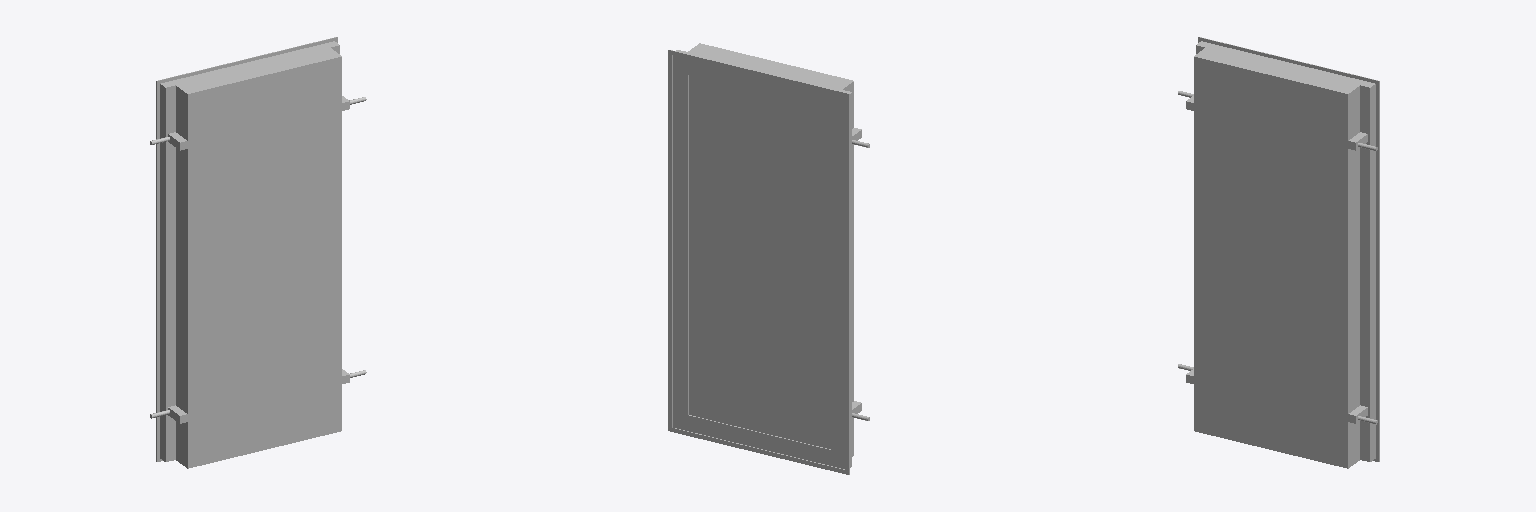
The model's file is Light Fixture.obj.
The picture shows the model from 3 angles: view 1: azimuth 30°, elevation 25°; view 2: azimuth 150°, elevation 25°; view 3: azimuth 330°, elevation 25°; orthographic projection.
Parts seen in each view (by area): view 1: Lighting Fixtures__Lighting-Linear-Day-Brite-Surgicare_LED-2x4__; view 2: Lighting Fixtures__Lighting-Linear-Day-Brite-Surgicare_LED-2x4__; view 3: Lighting Fixtures__Lighting-Linear-Day-Brite-Surgicare_LED-2x4__.
Boxes of the visible parts, x1=… form: Lighting Fixtures__Lighting-Linear-Day-Brite-Surgicare_LED-2x4__: x1=150, y1=37, x2=366, y2=468; Lighting Fixtures__Lighting-Linear-Day-Brite-Surgicare_LED-2x4__: x1=668, y1=43, x2=869, y2=474; Lighting Fixtures__Lighting-Linear-Day-Brite-Surgicare_LED-2x4__: x1=1178, y1=37, x2=1379, y2=468.
Bounding box in the file's own units: 2.25 × 3.97 × 0.3438.